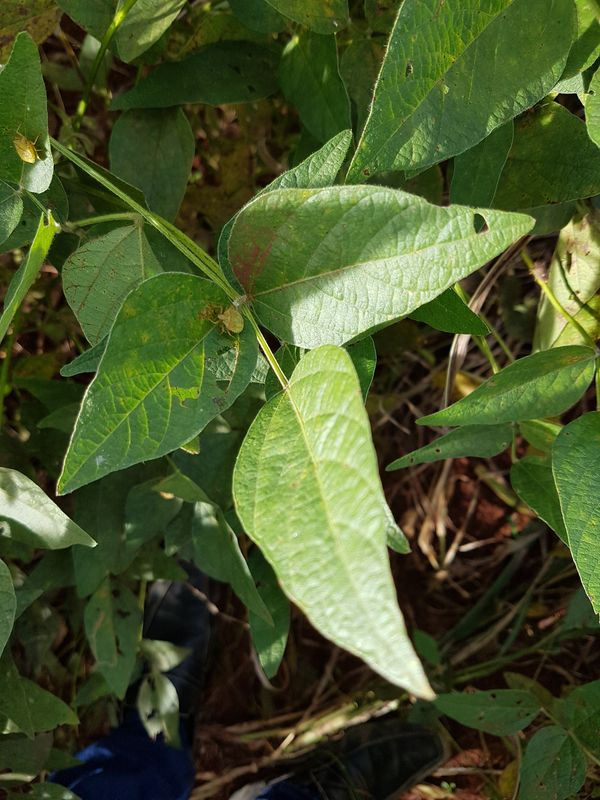Euschistus_heros_ninfa: (194, 295, 249, 349), (1, 116, 53, 172)
